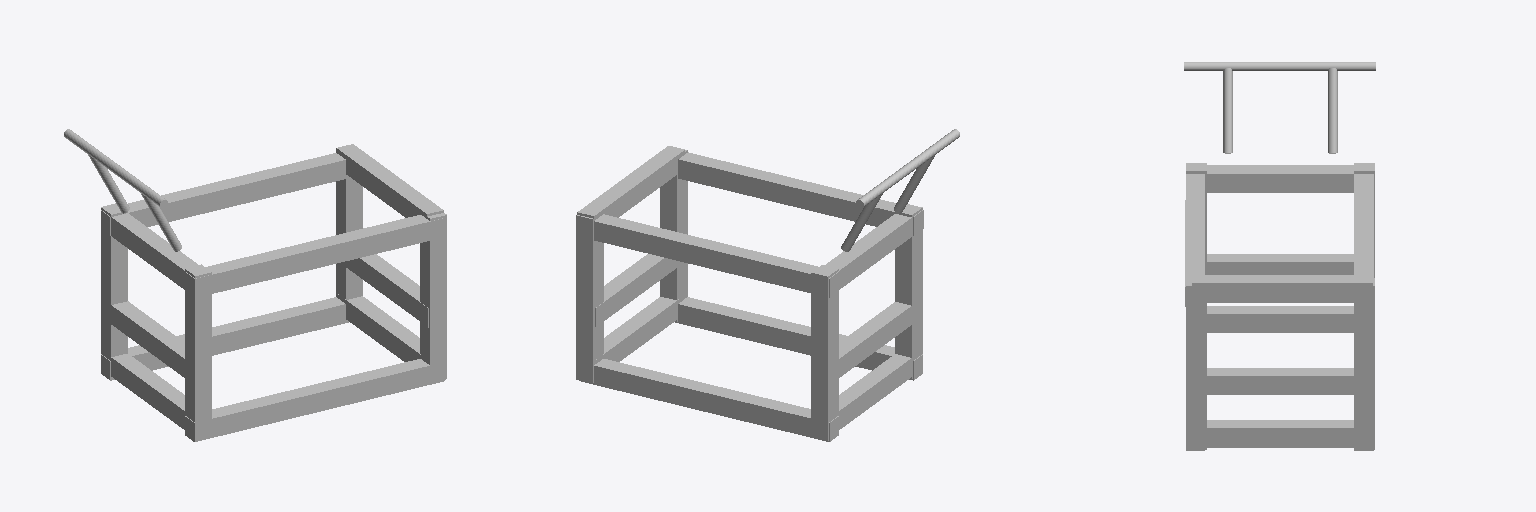
File: Car.obj
The picture shows the model from 3 angles: view 1: azimuth 30°, elevation 25°; view 2: azimuth 150°, elevation 25°; view 3: azimuth 270°, elevation 25°; orthographic projection.
Visible parts, largest first — view 1: Trolley.003, Trolley, Trolley.004, Trolley.001, Trolley.007, Trolley.011, Trolley.005, Trolley.009, Trolley.002, Trolley.013, Trolley.008, Trolley.006 (+5 smaller); view 2: Trolley.004, Trolley.001, Trolley.003, Trolley, Trolley.009, Trolley.010, Trolley.007, Trolley.005, Trolley.002, Trolley.008, Trolley.013, Trolley.006 (+5 smaller); view 3: Trolley.005, Trolley.002, Trolley.006, Trolley.008, Trolley.012, Trolley.011, Trolley.010, Trolley.013, Trolley.003, Trolley.004, Bar, bar1 (+1 smaller).
Part boxes in pixels (bbox=[...]): Trolley.003: bbox=[185, 215, 444, 297]; Trolley: bbox=[185, 359, 444, 441]; Trolley.004: bbox=[101, 153, 345, 235]; Trolley.001: bbox=[101, 297, 348, 380]; Trolley.007: bbox=[185, 264, 211, 440]; Trolley.011: bbox=[420, 213, 446, 382]; Trolley.005: bbox=[336, 144, 443, 218]; Trolley.009: bbox=[101, 203, 127, 378]; Trolley.002: bbox=[111, 213, 197, 289]; Trolley.013: bbox=[111, 301, 184, 377]; Trolley.008: bbox=[111, 354, 184, 429]; Trolley.006: bbox=[336, 293, 426, 362]; Trolley.004: bbox=[594, 214, 838, 297]; Trolley.001: bbox=[579, 359, 838, 441]; Trolley.003: bbox=[678, 152, 923, 235]; Trolley: bbox=[675, 297, 922, 380]; Trolley.009: bbox=[811, 265, 838, 440]; Trolley.010: bbox=[576, 215, 603, 383]; Trolley.007: bbox=[895, 204, 922, 378]; Trolley.005: bbox=[577, 146, 684, 220]; Trolley.002: bbox=[824, 214, 911, 289]; Trolley.008: bbox=[839, 353, 919, 429]; Trolley.013: bbox=[839, 302, 911, 377]; Trolley.006: bbox=[594, 295, 684, 364]; Trolley.005: bbox=[1192, 275, 1372, 302]; Trolley.002: bbox=[1205, 165, 1353, 192]; Trolley.006: bbox=[1207, 420, 1353, 447]; Trolley.008: bbox=[1207, 306, 1353, 332]; Trolley.012: bbox=[1207, 368, 1353, 394]; Trolley.011: bbox=[1186, 278, 1206, 449]; Trolley.010: bbox=[1354, 278, 1374, 449]; Trolley.013: bbox=[1205, 254, 1353, 274]; Trolley.003: bbox=[1185, 174, 1204, 306]; Trolley.004: bbox=[1354, 174, 1373, 277]; Bar: bbox=[1184, 62, 1375, 70]; bar1: bbox=[1328, 68, 1337, 153].
Bounding box in the file's own units: 3.45 × 2.87 × 2.